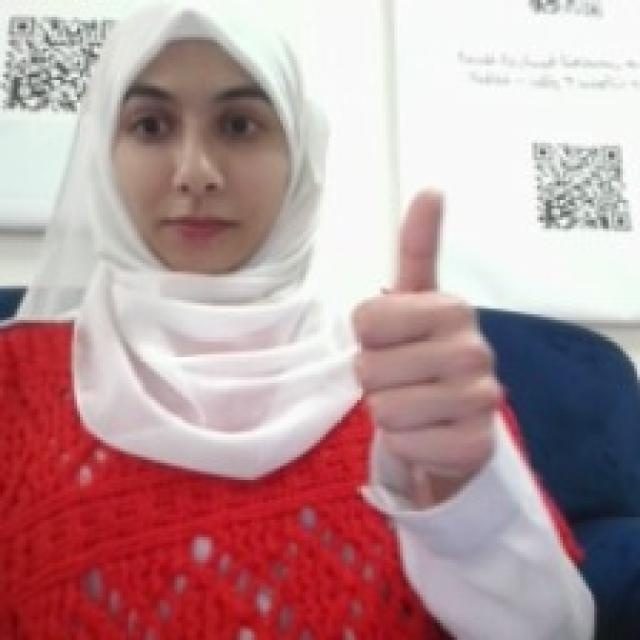fine: (337, 174, 503, 489)
